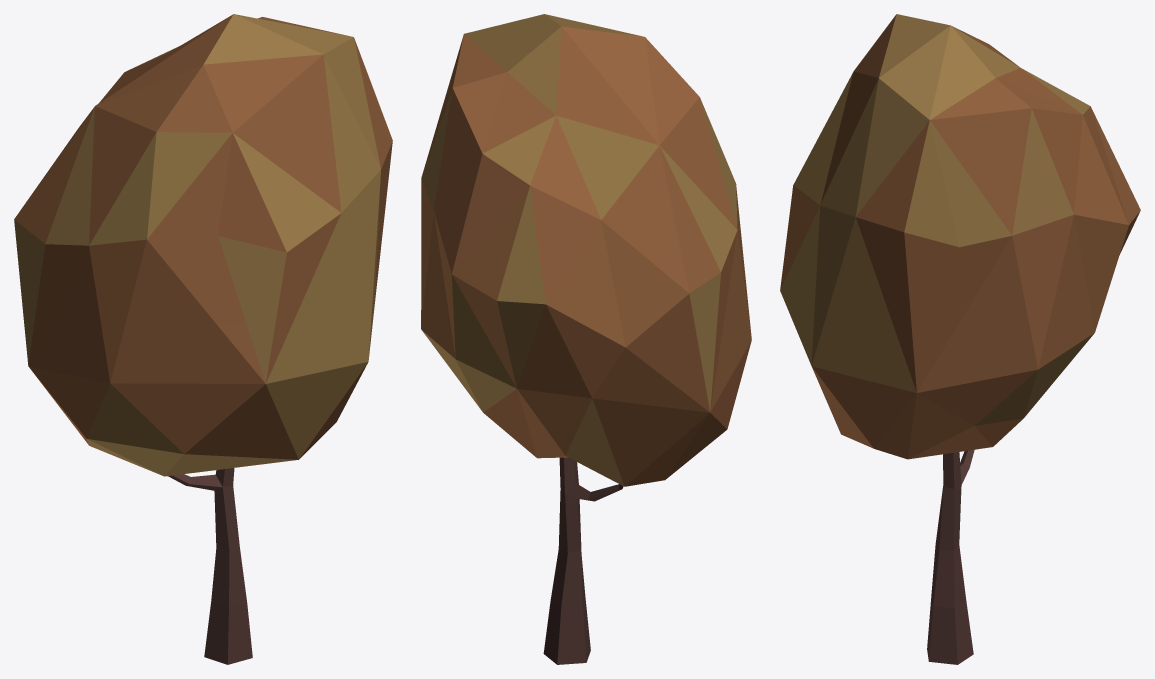
Rendered from Autumn_Tree_2.glb.
3 views of the same model, side by side, from view 1: azimuth 30°, elevation 25°; view 2: azimuth 150°, elevation 25°; view 3: azimuth 270°, elevation 25° (orthographic).
Parts seen in each view (by area): view 1: Oak_Tree_m_02; view 2: Oak_Tree_m_02; view 3: Oak_Tree_m_02.
Part boxes in pixels (box(x1,y1,x2,y2)): Oak_Tree_m_02: box(14, 14, 392, 664); Oak_Tree_m_02: box(421, 14, 751, 664); Oak_Tree_m_02: box(780, 14, 1140, 664).
Bounding box in the file's own units: 0.9642 × 1.87 × 0.9678.
